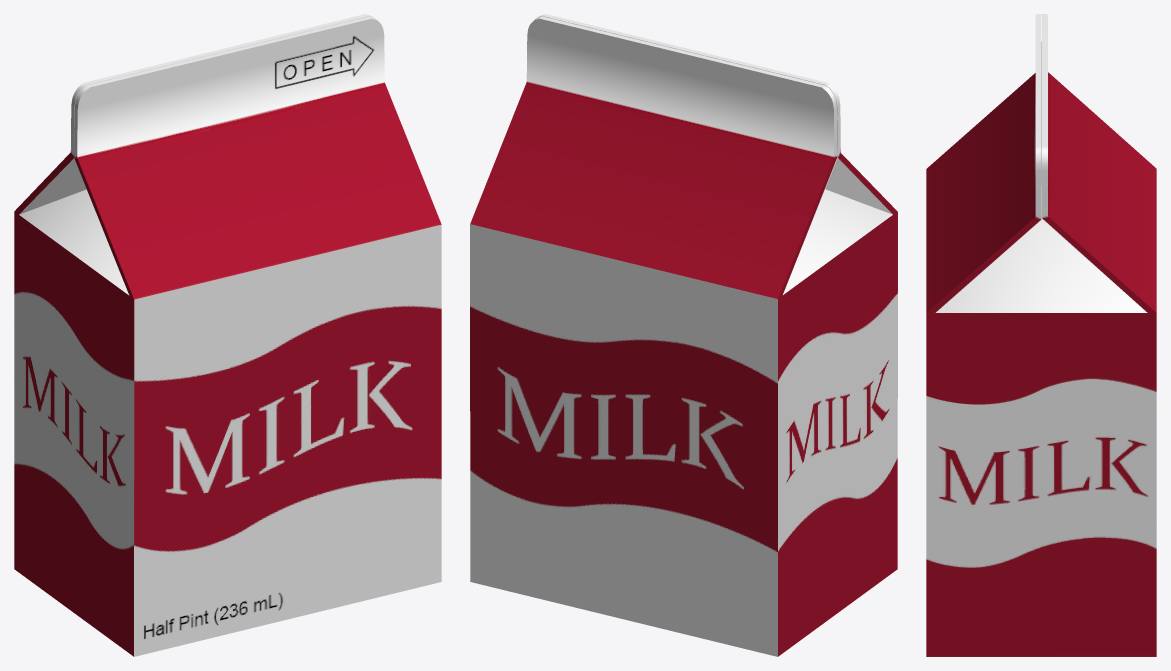
The model's file is leche.fbx.
3 renders of one model, left to right at view 1: azimuth 30°, elevation 25°; view 2: azimuth 150°, elevation 25°; view 3: azimuth 270°, elevation 25°, orthographic. The views are drawn at different scales.
Visible parts, largest first — view 1: node_id5; view 2: node_id5; view 3: node_id5.
Part boxes in pixels (x1,y1,x2,y2): node_id5: (14, 14, 441, 656); node_id5: (470, 14, 897, 656); node_id5: (926, 14, 1156, 656).
Size of the model in its own units: 0.3141 by 0.512 by 0.2121.
1 material, 1 textured.
